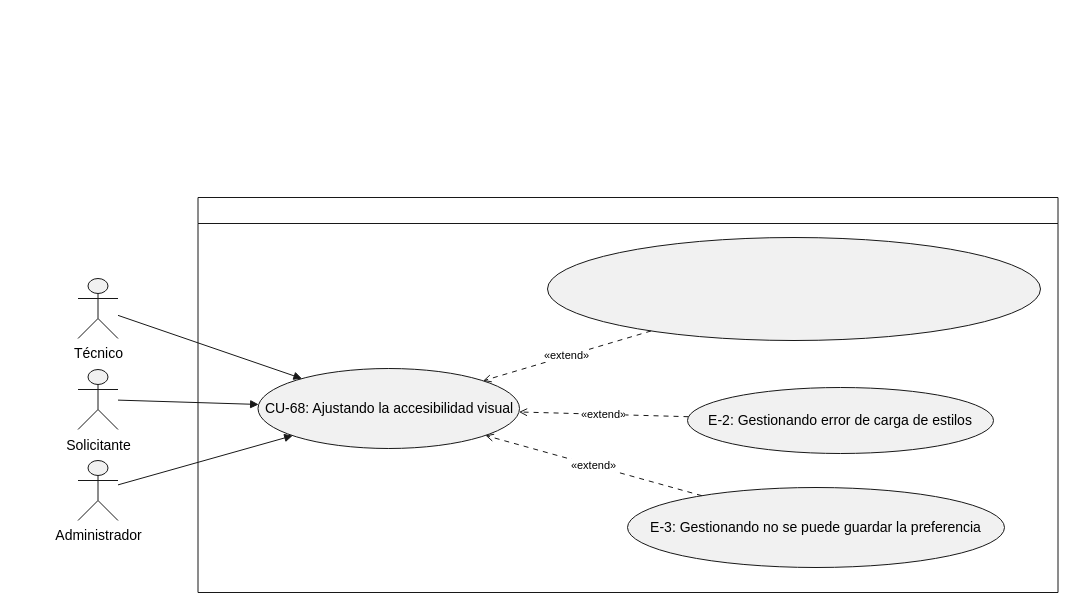
This 1075x610 diagram has some shape labels left out. Each missing label, with the box of its shape:
E-1: Gestionando la sección de configuración no carga correctamente: (546, 236, 1040, 340)
Módulo de Usuarios y Perfil: (197, 196, 1058, 592)
